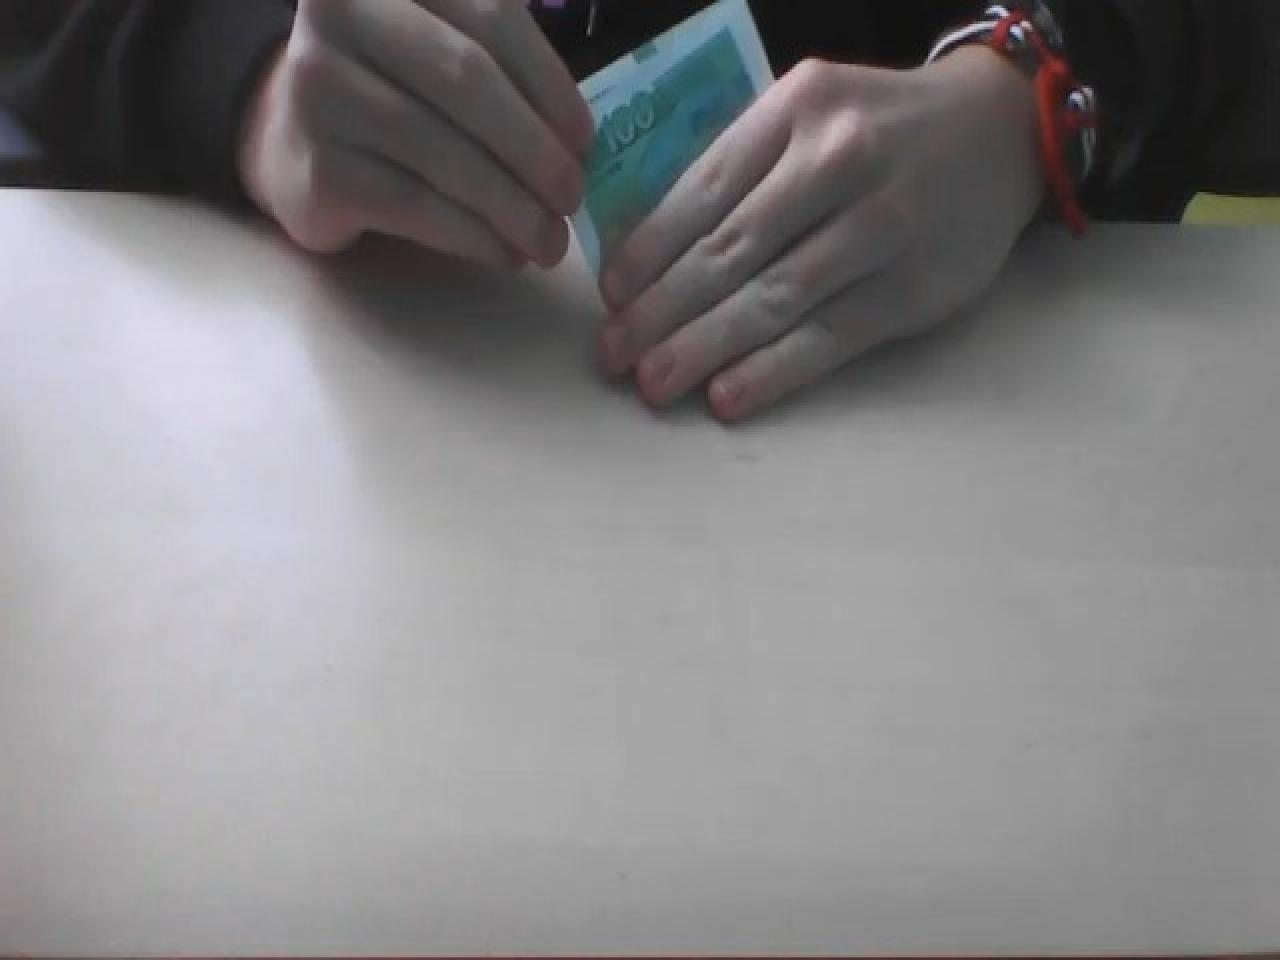100leva: (530, 0, 782, 251)
